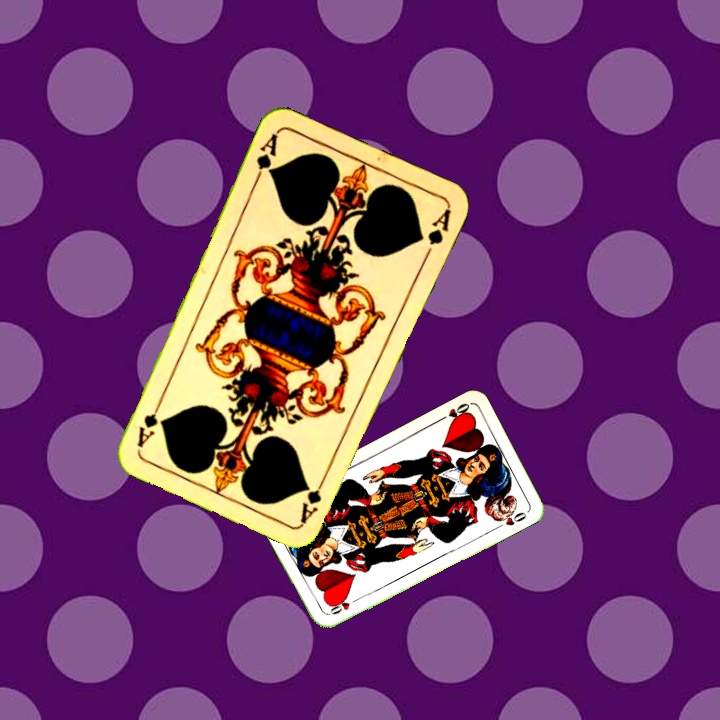GA: (296, 469, 330, 526), (251, 129, 281, 186)
HO: (435, 399, 473, 425), (324, 594, 362, 618)
